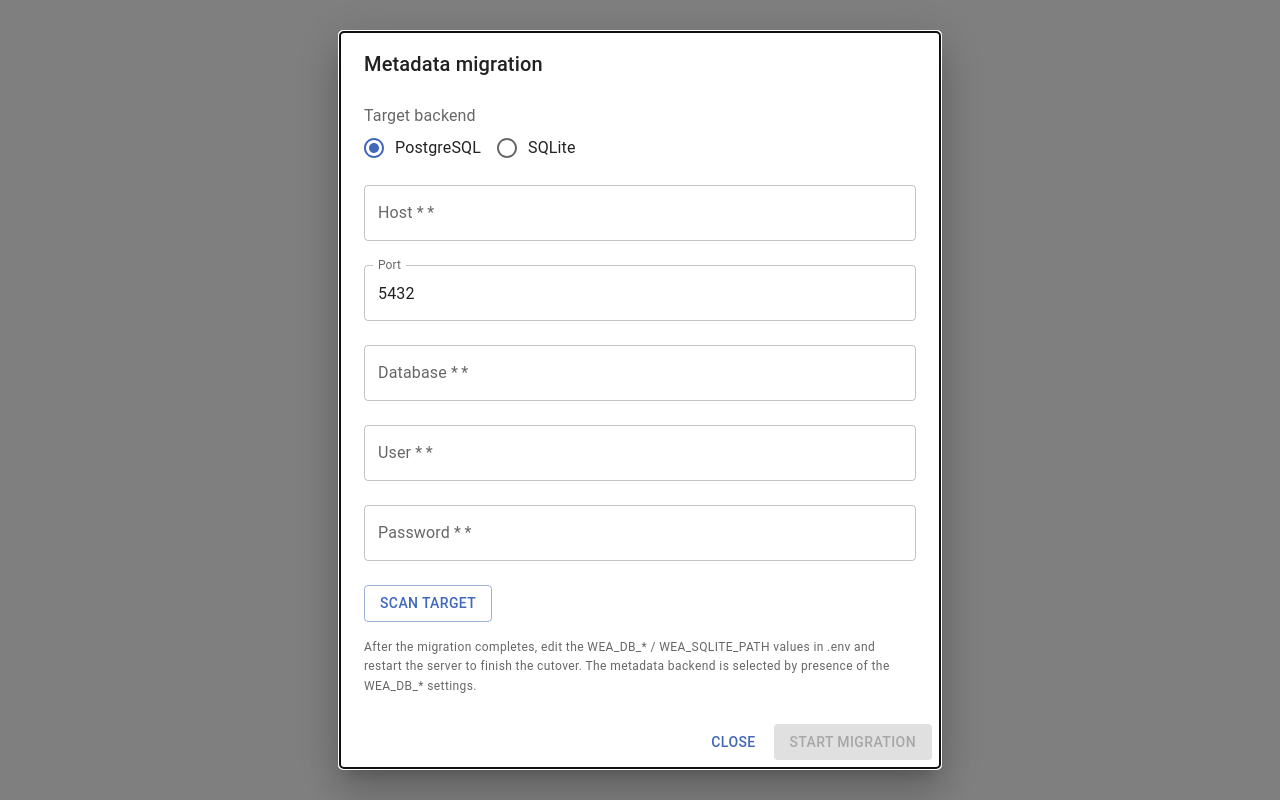
Scenario: MetadataMigrationDialog › blocks scan until the required target fields are filled
Expected: the field labelled "Host * *" is shown, x1=364 y1=185 x2=916 y2=241
Click the button "Scan target" at (428, 603), box x1=364 y1=585 x2=492 y2=622
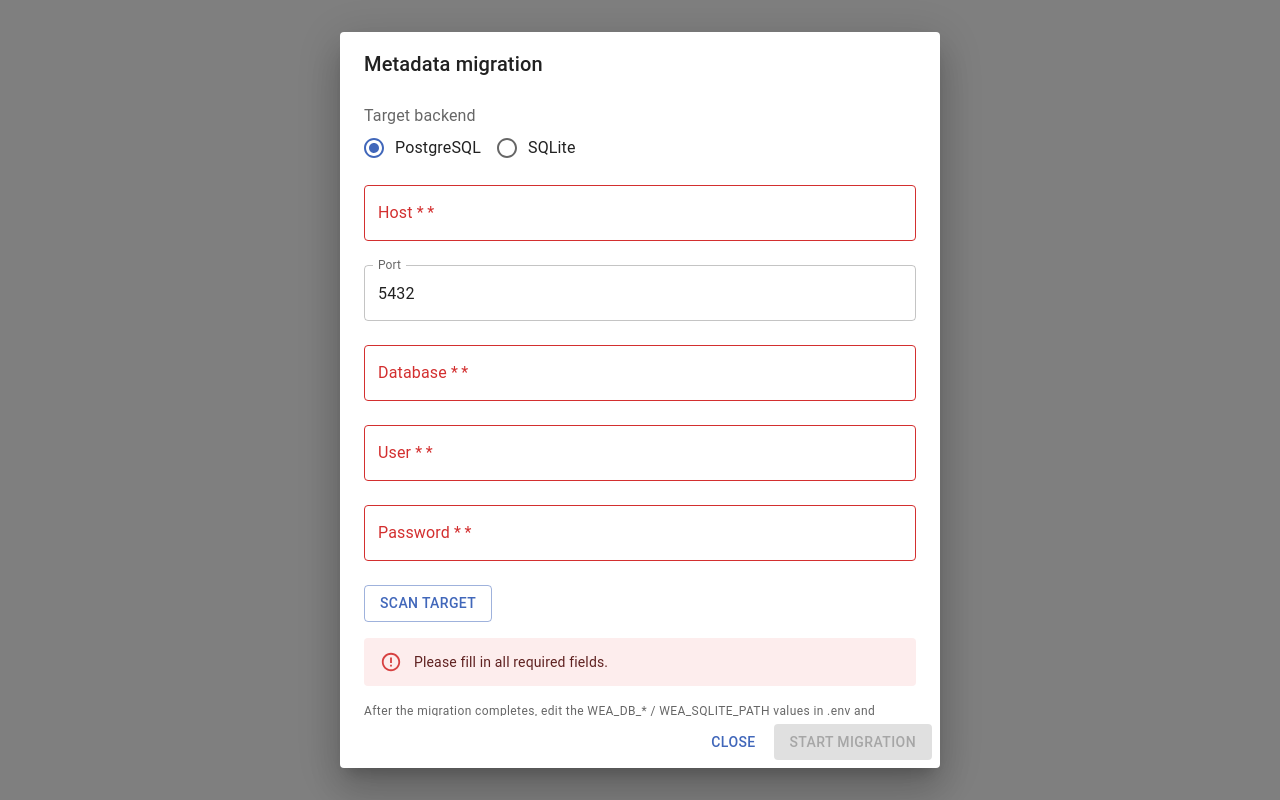
Expected: the text "Please fill in all required fields." is shown, x1=414 y1=654 x2=608 y2=670
